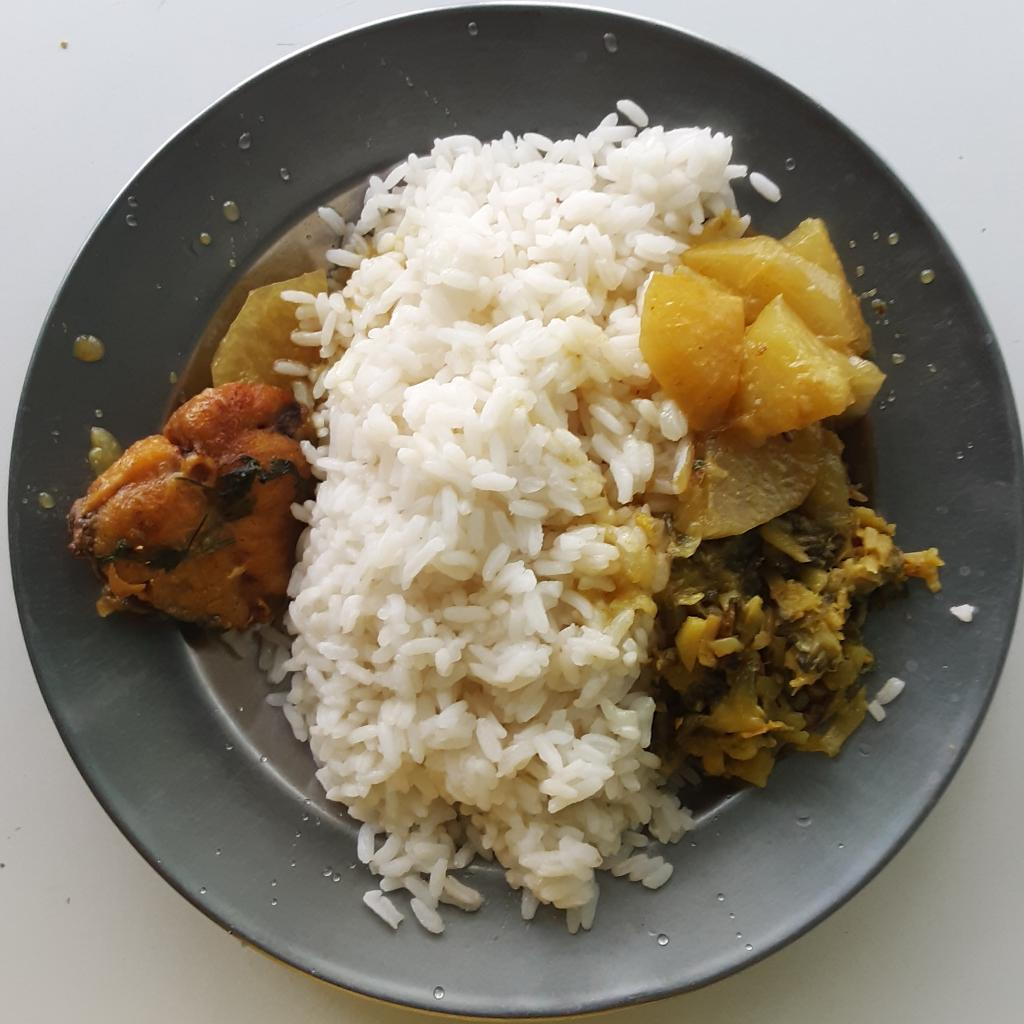fish: (65, 379, 308, 630)
korola-vaji: (652, 507, 944, 801)
lau: (638, 214, 886, 549)
potato: (211, 279, 295, 375), (280, 262, 329, 293)
rice: (224, 101, 780, 935)
